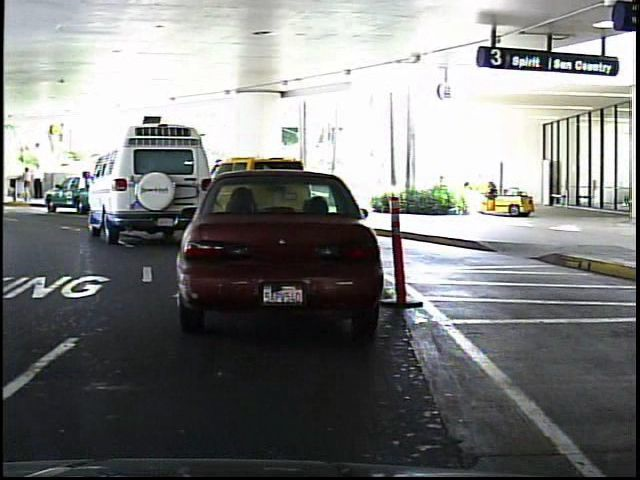person: (20, 166, 37, 205), (33, 160, 47, 201)
